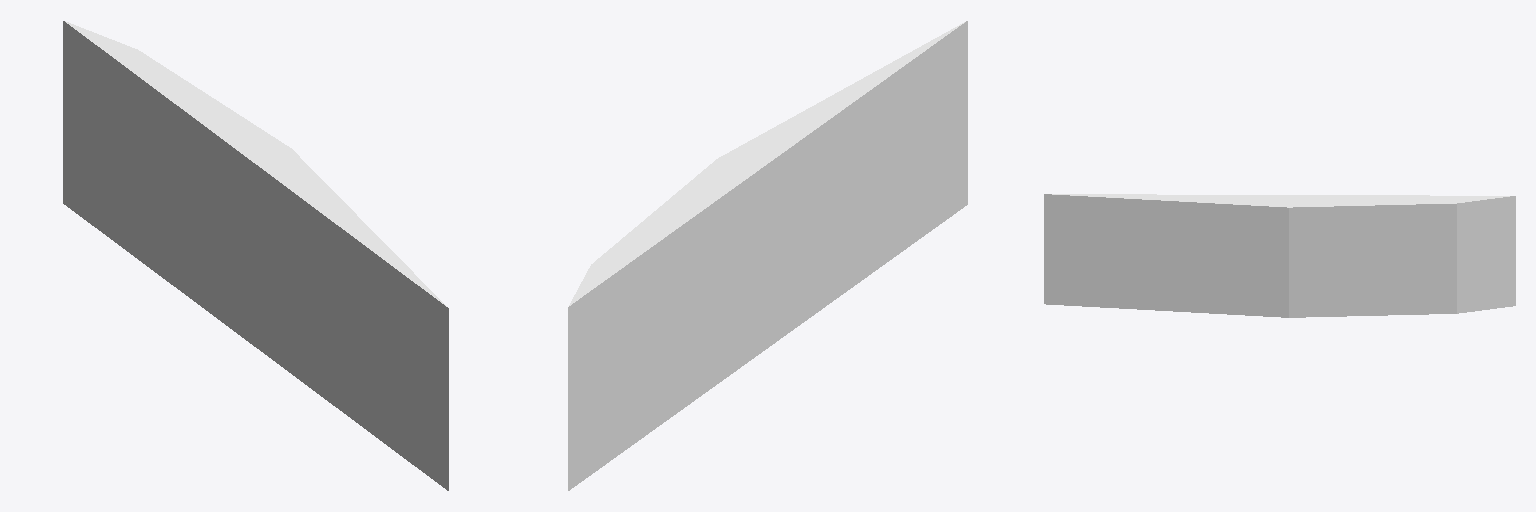
The robot description file, URDF, robot "2x2":
<?xml version="1.0" encoding="utf-8"?>
<!-- This URDF was automatically created by SolidWorks to URDF Exporter! Originally created by [author] ([email redacted]) 
     Commit Version: 1.6.0-4-g7f85cfe  Build Version: 1.6.7995.38578
     For more information, please see http://wiki.ros.org/sw_urdf_exporter -->
<robot
  name="2x2">
  <contact>
      <lateral_friction value="1.0"/>
      <rolling_friction value="0.0"/>
      <contact_cfm value="0.0"/>
      <contact_erp value="1.0"/>
    </contact>
  <link
    name="base_link">
    <inertial>
      <origin
        xyz="0 0 0"
        rpy="0 0 0" />
      <mass
        value="0.1" />
      <inertia
        ixx="0.1"
        ixy="0"
        ixz="0"
        iyy="0.1"
        iyz="0"
        izz="0.1" />
    </inertial>
    <visual>
      <origin
        xyz="0 0 0"
        rpy="0 0 0" />
      <geometry>
          <mesh filename="polygon_0.stl"/>
      </geometry>
      <material name="">
        <color rgba="1 1 1 1" />
      </material>
    </visual>
    <collision>
      <origin
        xyz="0.0 0.0 0.0"
        rpy="0.0 0.0 0.0" />
      <geometry>
        <mesh filename="polygon_0.stl"/>
      </geometry>
    </collision>
  </link>
</robot>

--- What the picture shows (computed from the rendered views, not written in the file) ---
The picture shows the robot from 3 angles, left to right: view 1: azimuth 30°, elevation 25°; view 2: azimuth 150°, elevation 25°; view 3: azimuth 270°, elevation 25°; orthographic projection.
Robot: 2x2 — 1 links, 0 joints (none); root link base_link; default pose: every joint at zero.
Links seen in each view (by area): view 1: base_link; view 2: base_link; view 3: base_link.
Boxes of the visible links, x1,y1,x2,y2 form: base_link: (63,21,448,490); base_link: (568,21,967,490); base_link: (1044,194,1515,317).
Bounding box of the posed robot: 0.0026 × 0.0387 × 0.01 m (x, y, z).
1 mesh visuals loaded from 1 distinct referenced files (1 ASCII STL).